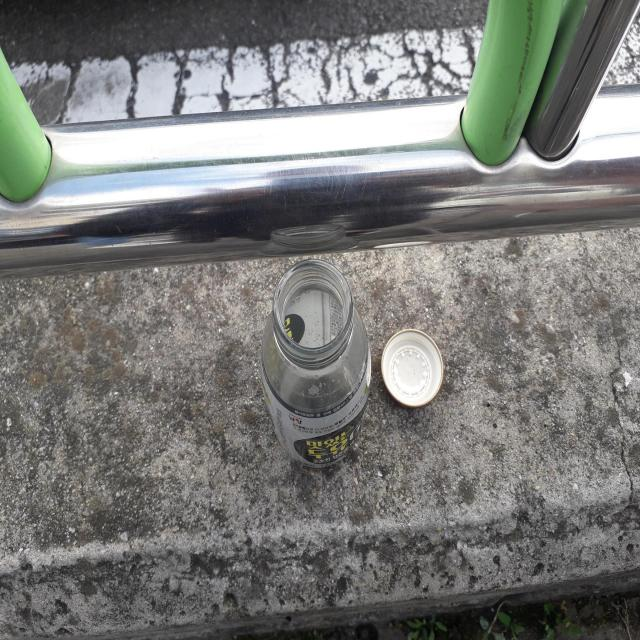glass: (261, 259, 371, 468)
